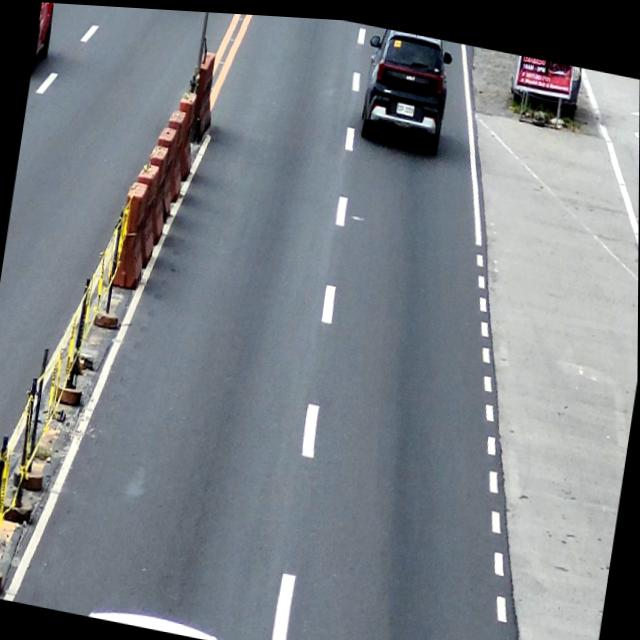Car: (356, 21, 454, 149)
License-Plate: (395, 96, 416, 113)
